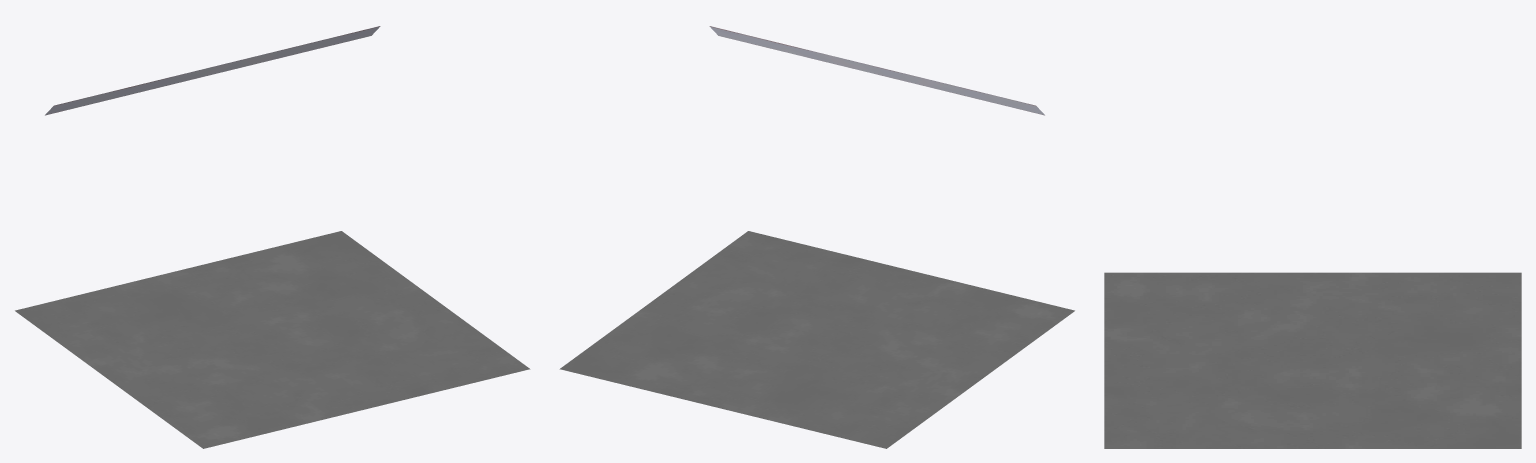
The model's file is Room_2_LowCeiling.glb.
The picture shows the model from 3 angles, left to right: view 1: azimuth 30°, elevation 25°; view 2: azimuth 150°, elevation 25°; view 3: azimuth 270°, elevation 25°; orthographic projection. The views are drawn at different scales.
Parts seen in each view (by area): view 1: Room_2_LowCeiling; view 2: Room_2_LowCeiling; view 3: Room_2_LowCeiling.
Boxes of the visible parts, bbox=[...] form: Room_2_LowCeiling: bbox=[15, 26, 530, 448]; Room_2_LowCeiling: bbox=[559, 26, 1074, 448]; Room_2_LowCeiling: bbox=[1104, 272, 1521, 448].
Size of the model in its own units: 6 by 4.1 by 6.
Materials: 2 (2 with a texture image).
